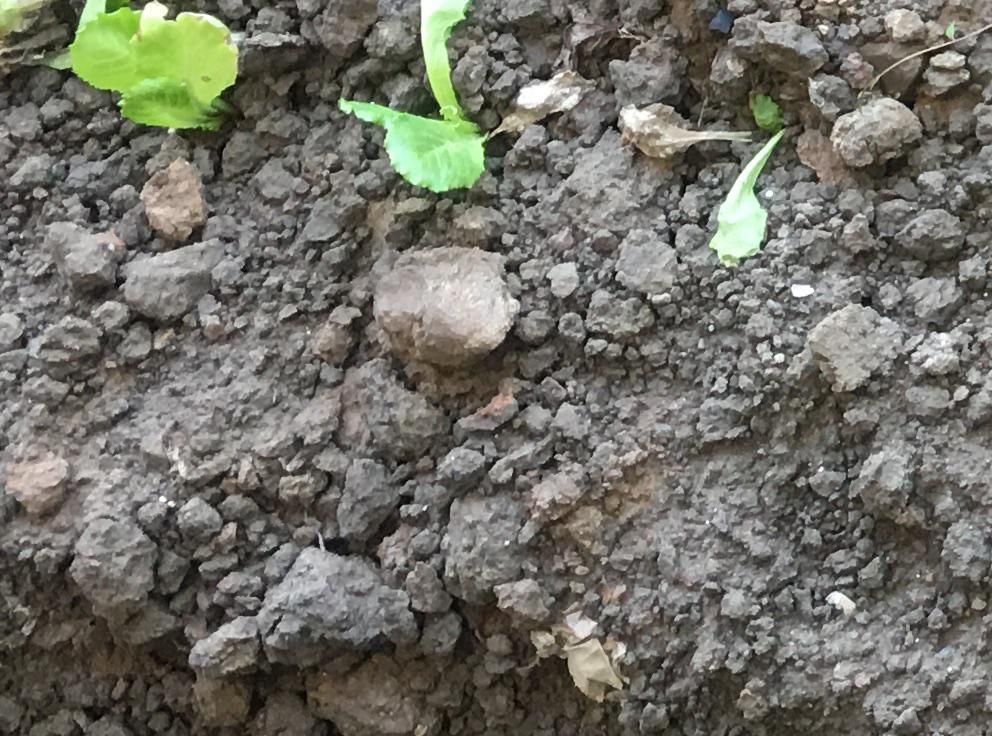block: (369, 244, 507, 358), (265, 545, 393, 667), (117, 239, 229, 328)
